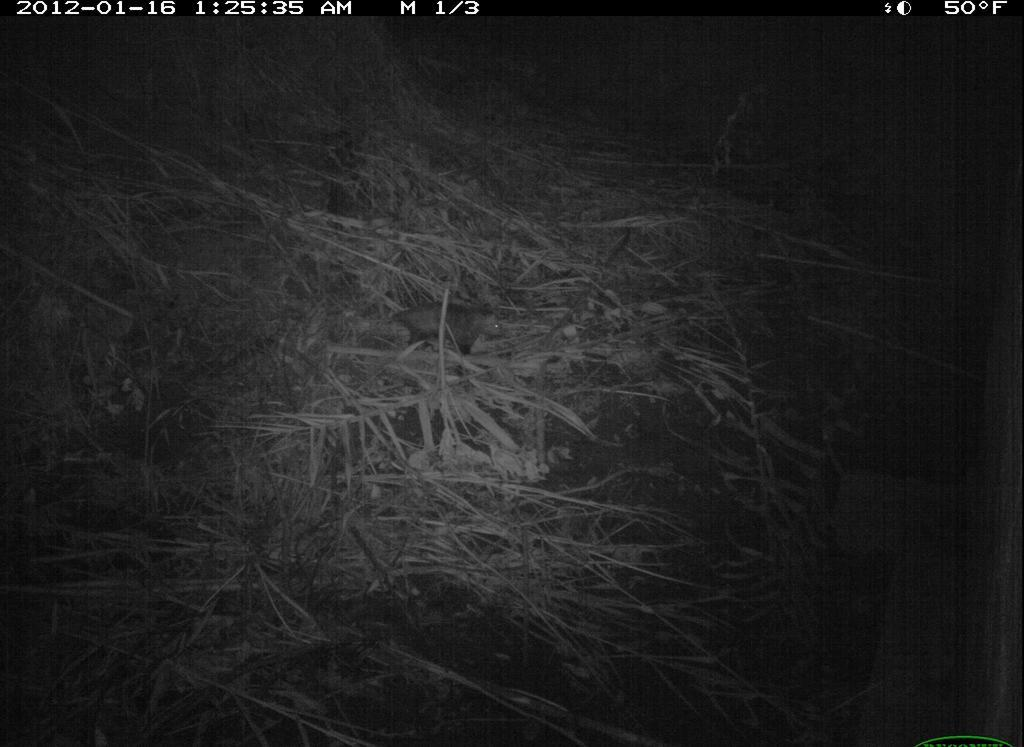opossum: (378, 287, 510, 367)
